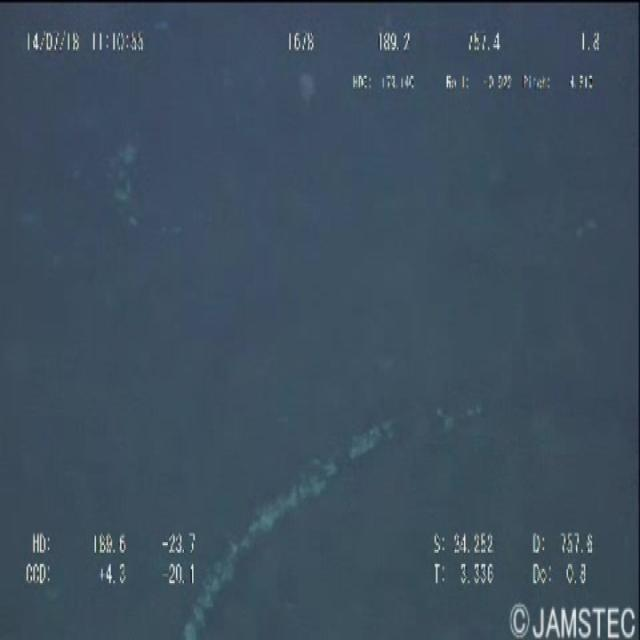Wood: (160, 395, 504, 640)
